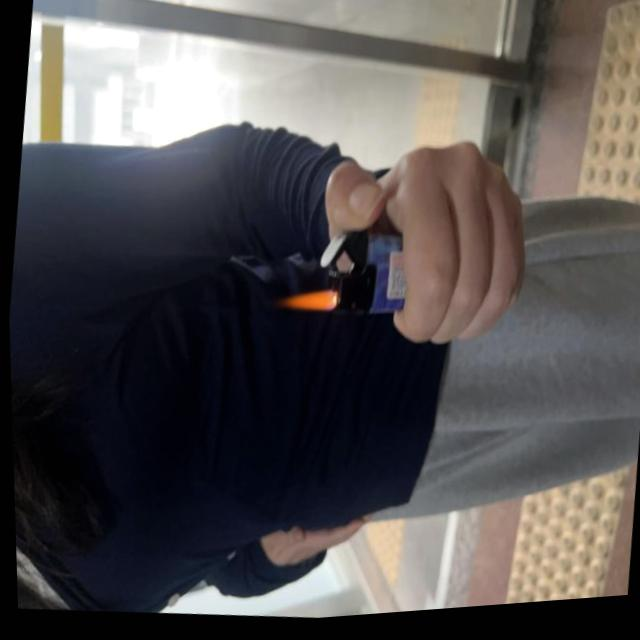helmet: (271, 285, 337, 325)
